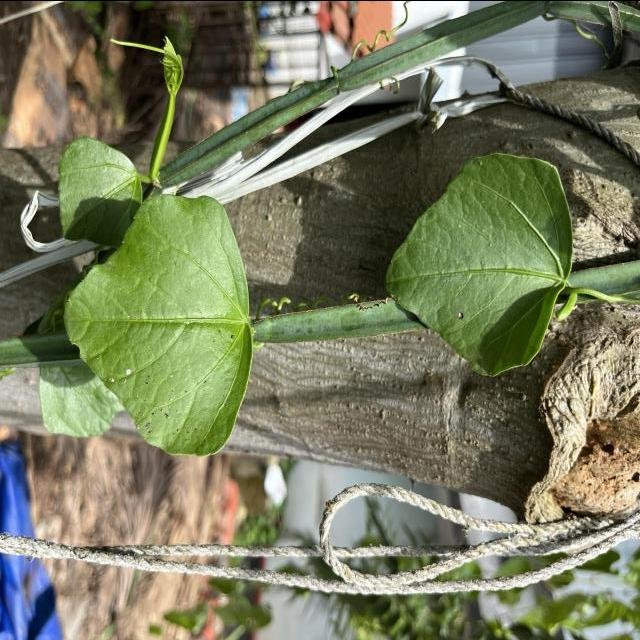Cissus quadrangularis: (62, 190, 256, 457), (380, 150, 576, 378)
